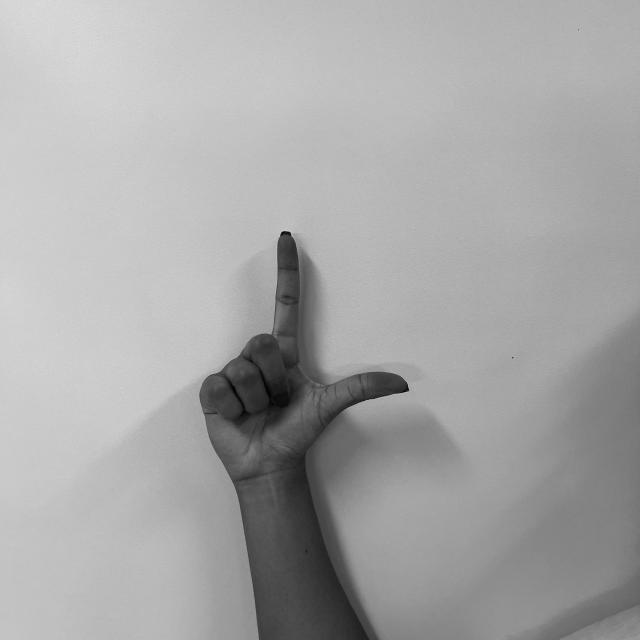Letra L: (195, 225, 412, 485)
